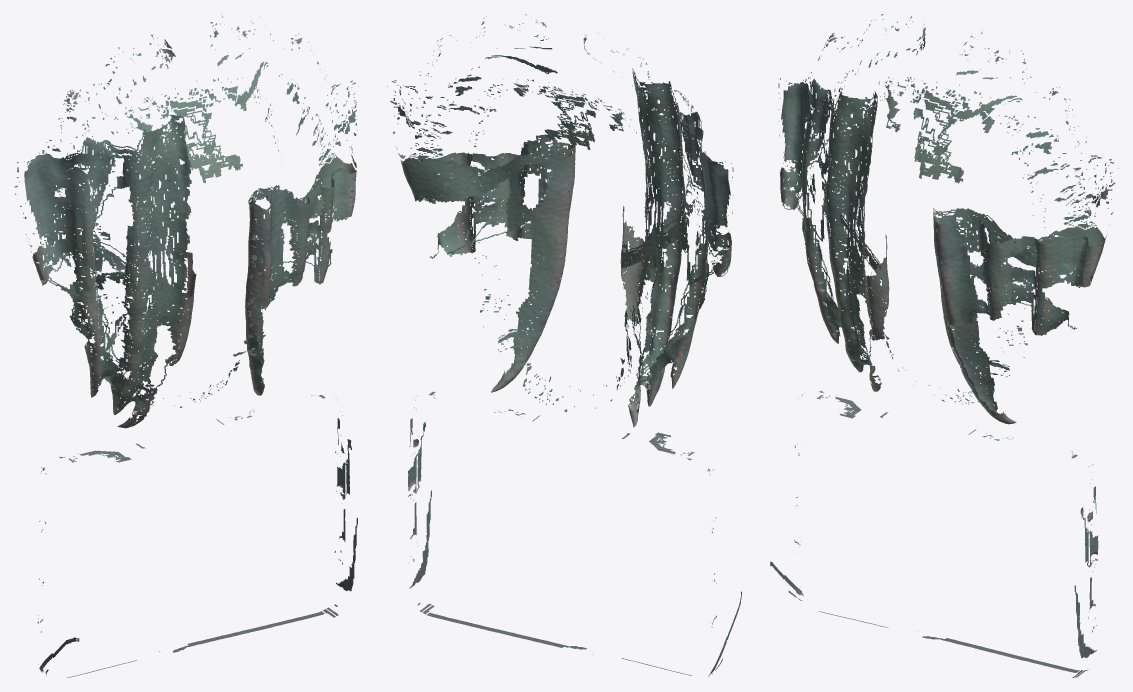
Rendered from cthulhu17_material_0.010_lev1.glb.
The picture shows the model from 3 angles, left to right: view 1: azimuth 30°, elevation 25°; view 2: azimuth 150°, elevation 25°; view 3: azimuth 330°, elevation 25°; orthographic projection.
Visible parts, largest first — view 1: cthulhu17_material_0.010_lev1; view 2: cthulhu17_material_0.010_lev1; view 3: cthulhu17_material_0.010_lev1.
Boxes of the visible parts, bbox=[...] form: cthulhu17_material_0.010_lev1: bbox=[15, 14, 358, 677]; cthulhu17_material_0.010_lev1: bbox=[387, 14, 741, 676]; cthulhu17_material_0.010_lev1: bbox=[770, 14, 1118, 677].
Size of the model in its own units: 2.82 by 4.87 by 0.657.
